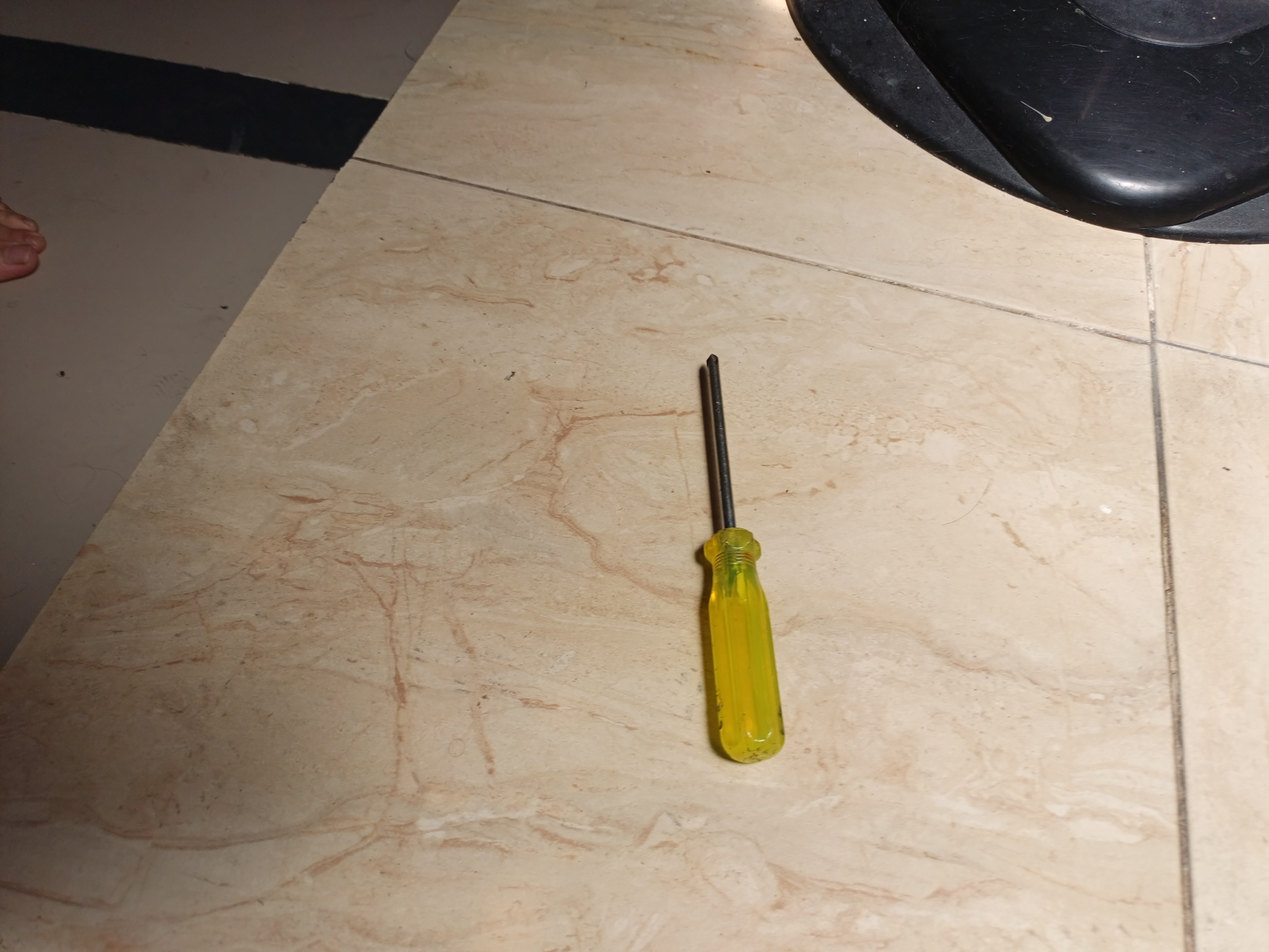Destornillador: (702, 355, 784, 763)
